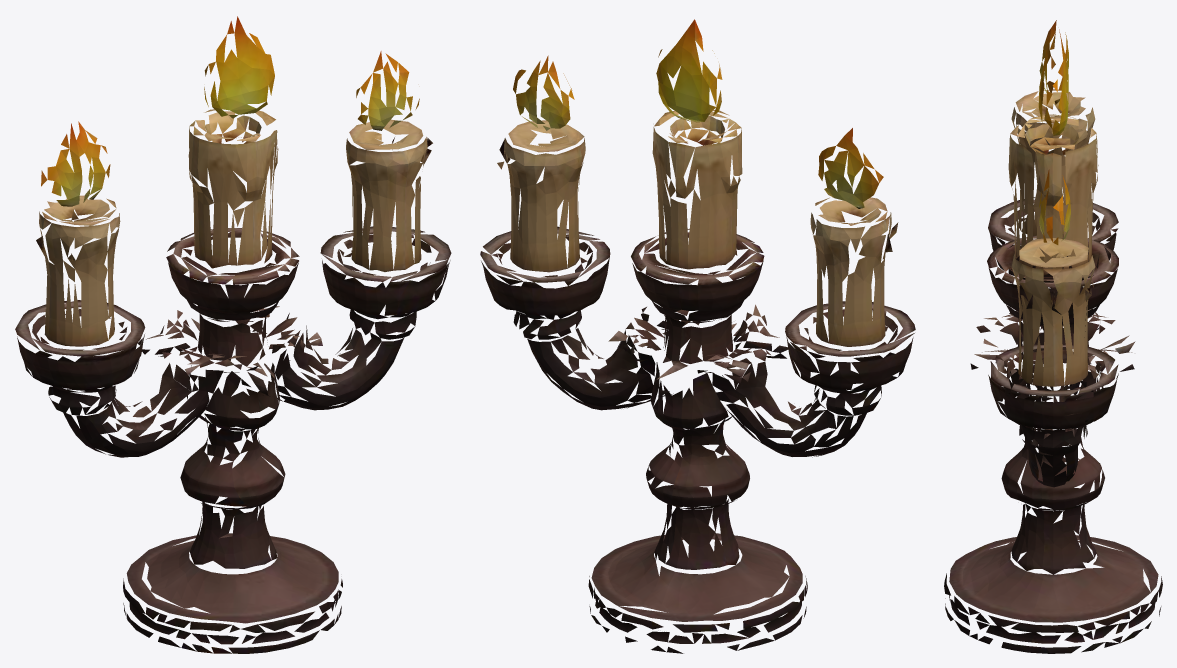
The model's file is candlestick.glb.
3 views of the same model, side by side, from view 1: azimuth 30°, elevation 25°; view 2: azimuth 150°, elevation 25°; view 3: azimuth 270°, elevation 25° (orthographic).
Visible parts, largest first — view 1: world; view 2: world; view 3: world.
Boxes of the visible parts, x1=… form: world: x1=15, y1=16, x2=451, y2=653; world: x1=480, y1=19, x2=915, y2=653; world: x1=944, y1=20, x2=1162, y2=653.
Bounding box in the file's own units: 0.7221 × 0.9829 × 0.3339.
1 material, 1 textured.
